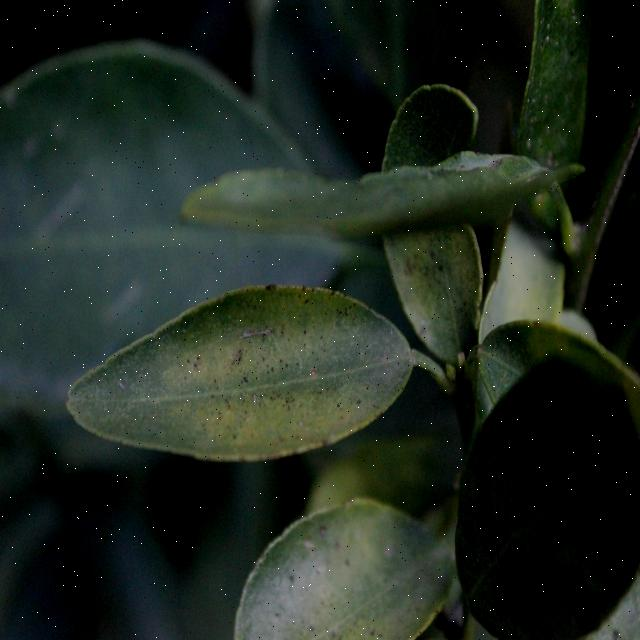blackspot: (114, 272, 382, 491), (247, 506, 422, 640), (388, 91, 474, 350)
